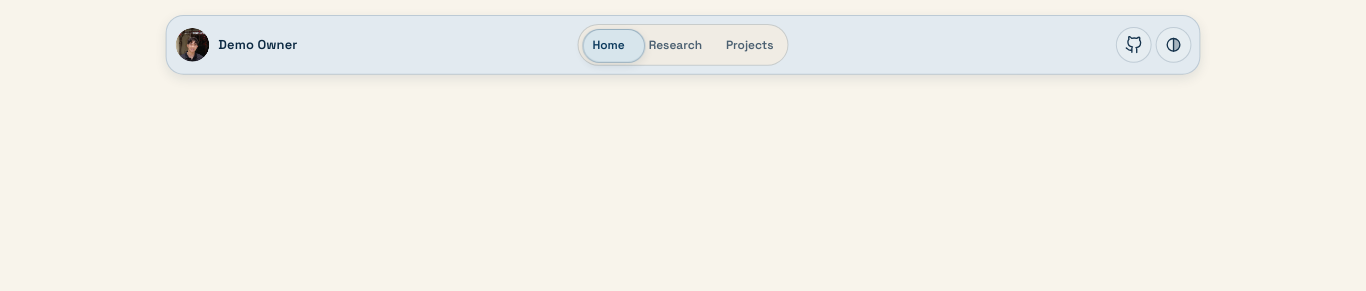
it: navigation helpers › keeps the header geometry stable while the desktop theme menu is open
(page scrolled)
Click the button named "choose color theme": click(1174, 45) [1156, 27, 1191, 63]
(page scrolled)
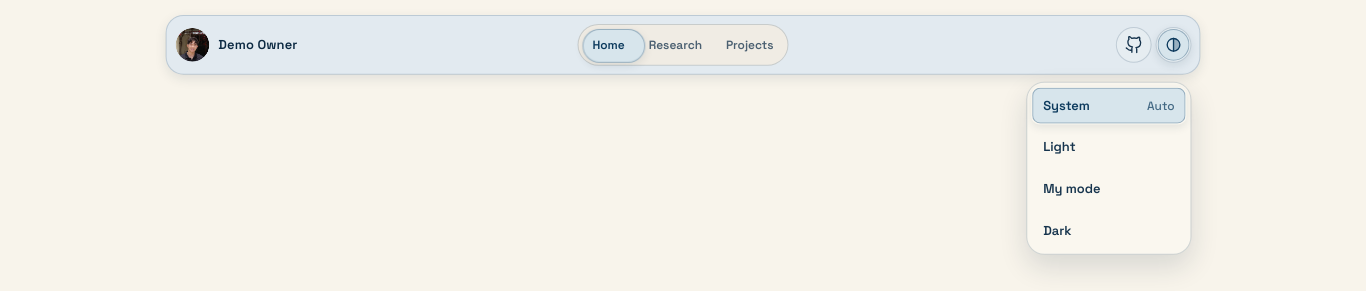
expect the button named "choose color theme" is expanded: met, box [1156, 27, 1191, 63]
Press the mouse on the element showing "Demo Owner Home Research Projects": (683, 46) [0, 16, 1365, 76]
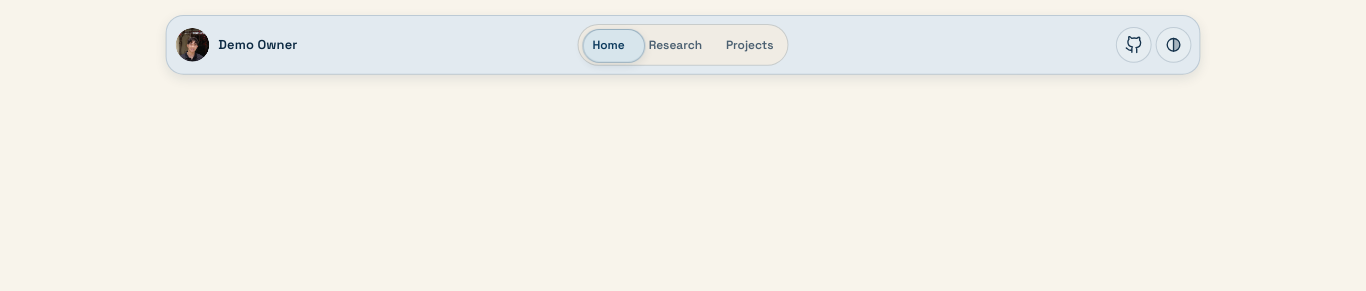
expect the button named "choose color theme" is collapsed: met
Click the button named "choose color theme": click(1174, 45) [1156, 27, 1191, 63]
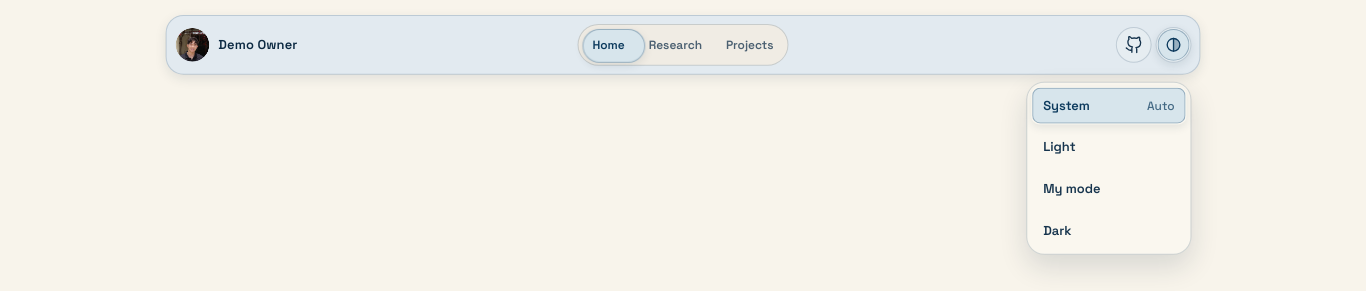
Press Escape in the button named "choose color theme", box [1156, 27, 1191, 63]
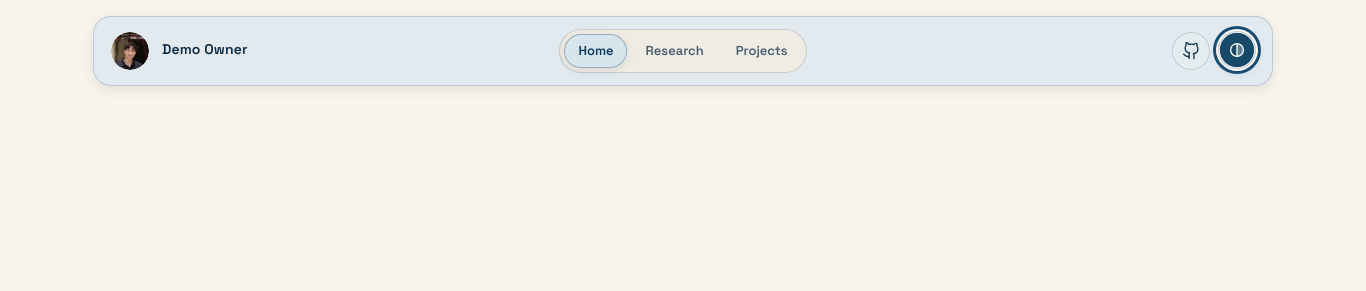
expect the button named "choose color theme" is collapsed: met, box [1218, 31, 1256, 69]
